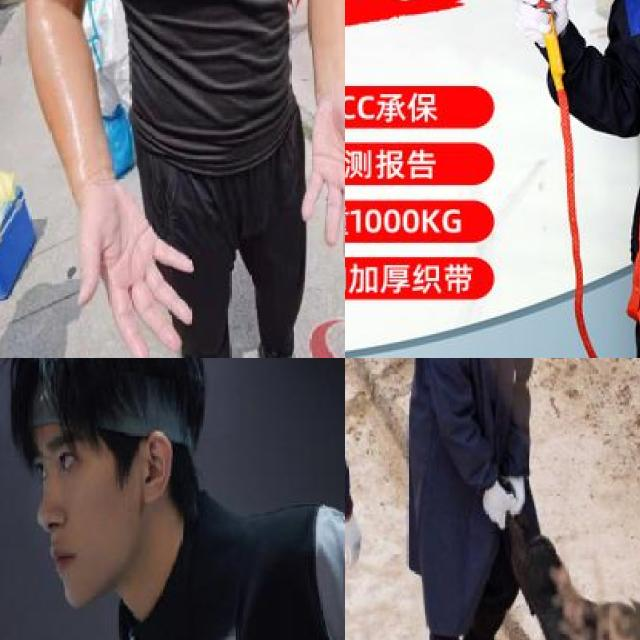face_nomask: (37, 418, 133, 609)
hand_glove: (482, 485, 509, 530), (502, 468, 525, 516), (345, 516, 365, 570)
hand_noglove: (74, 193, 193, 358), (299, 94, 345, 256)
head_nohelmet: (0, 358, 206, 435)
person: (0, 358, 345, 640), (415, 358, 575, 640)
shoes: (250, 336, 323, 358)
